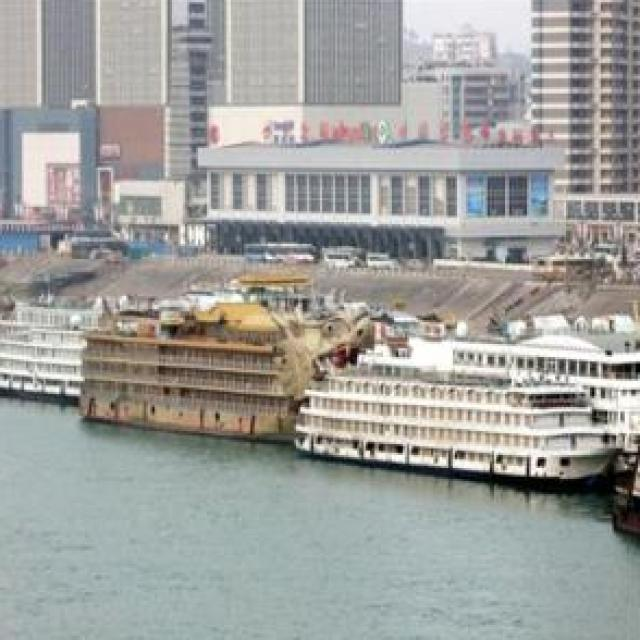passenger ship: (77, 303, 336, 434), (297, 377, 612, 480), (0, 318, 100, 400)
